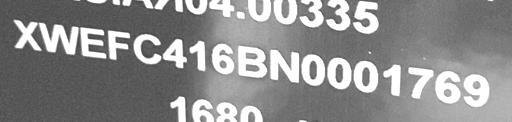letter: (38, 20, 80, 57), (268, 46, 300, 84), (236, 43, 268, 79), (405, 62, 435, 99), (78, 25, 108, 62), (432, 68, 462, 103), (12, 18, 42, 53), (350, 59, 380, 93), (462, 71, 490, 106), (132, 32, 162, 64), (299, 52, 327, 86), (325, 56, 353, 90), (161, 36, 189, 68), (106, 27, 132, 61), (210, 40, 234, 76), (380, 61, 402, 96), (188, 39, 208, 71)
